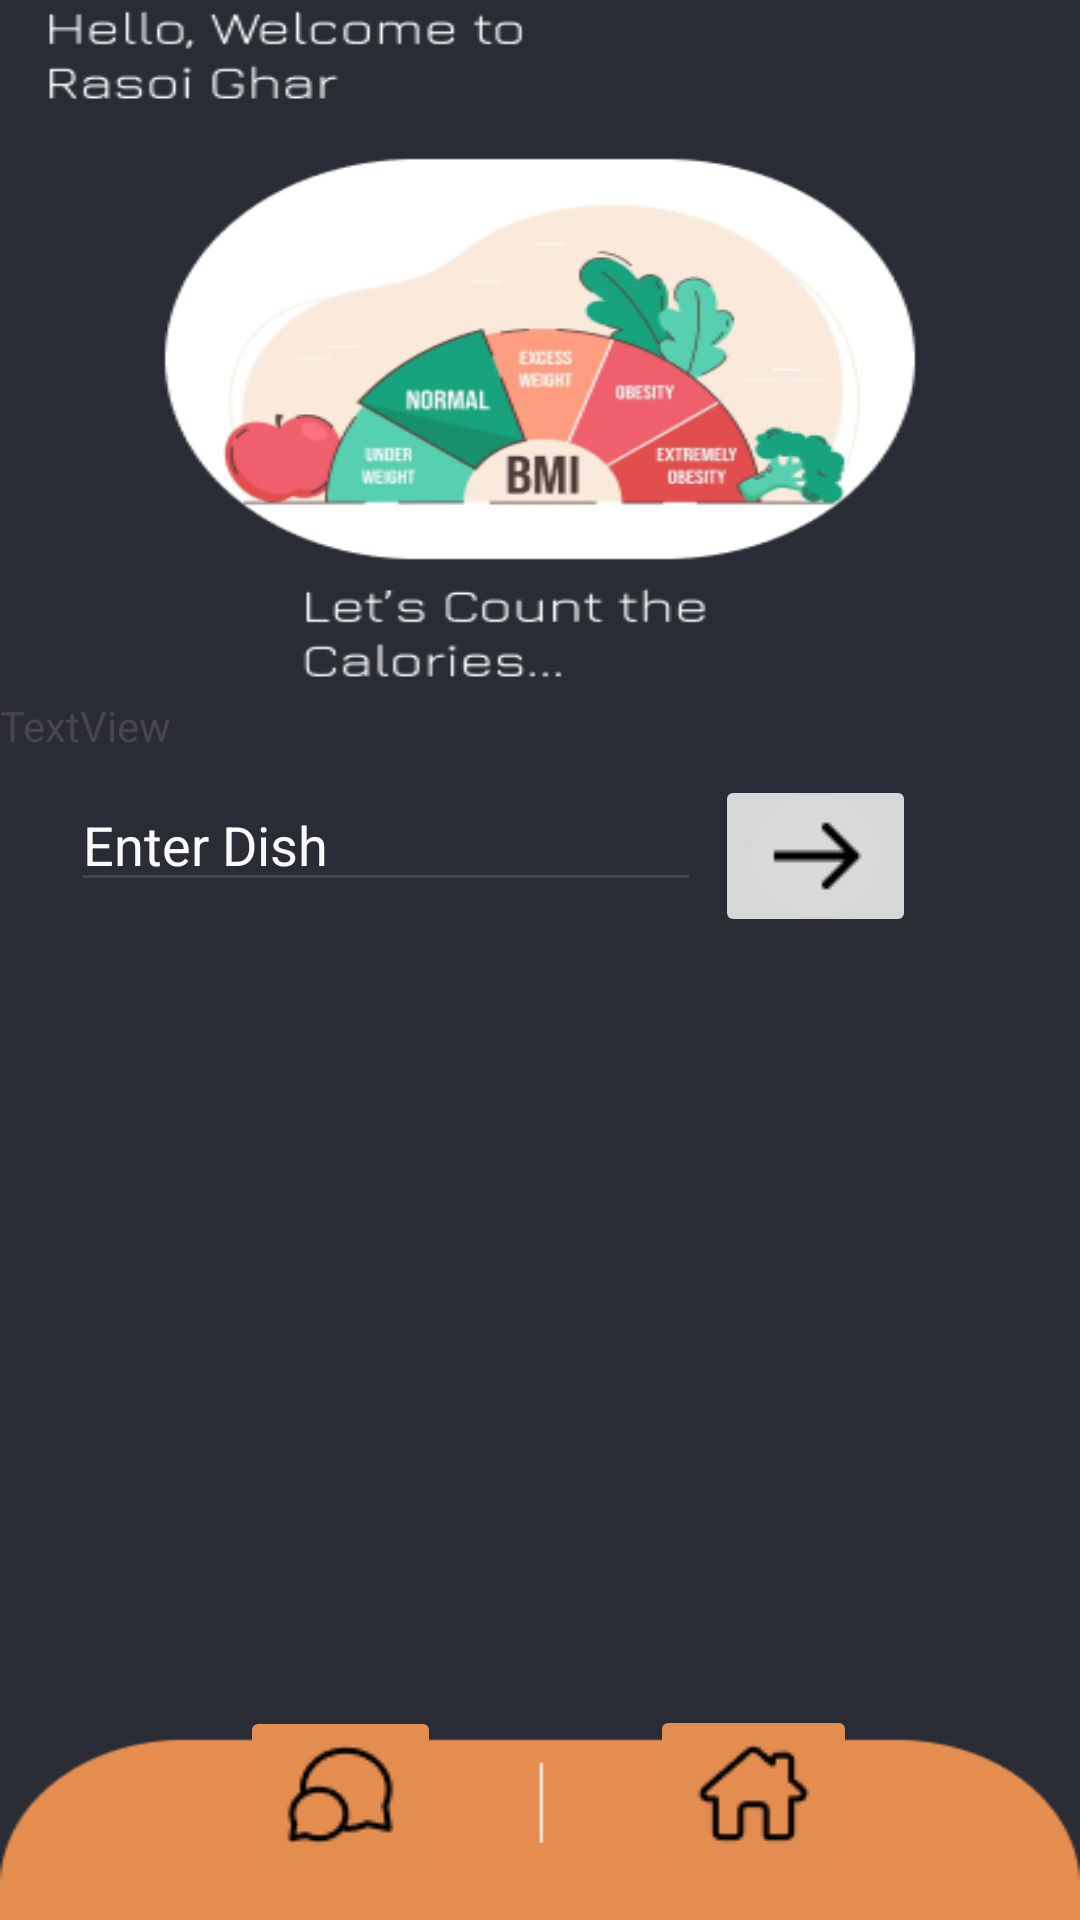

Icon click points for this 1080*1920 phone screenshot, format [x,y]:
chat: [340,1774]
home: [753,1773]
send arrow: [815,856]
